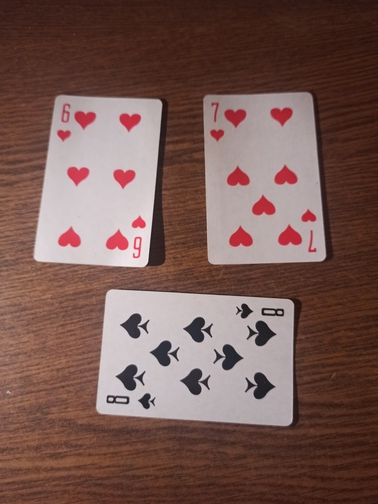eightspades: (93, 285, 299, 430)
sevenhearts: (202, 90, 330, 268)
sixhearts: (31, 94, 155, 268)
